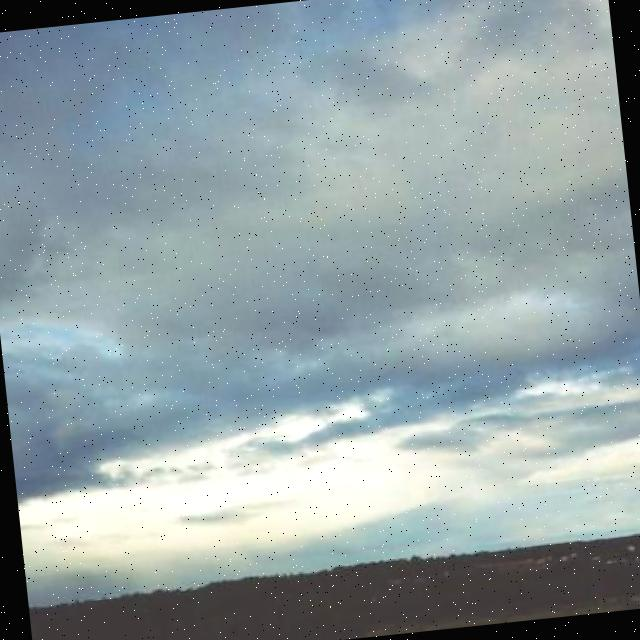Ns: (1, 108, 640, 526)
